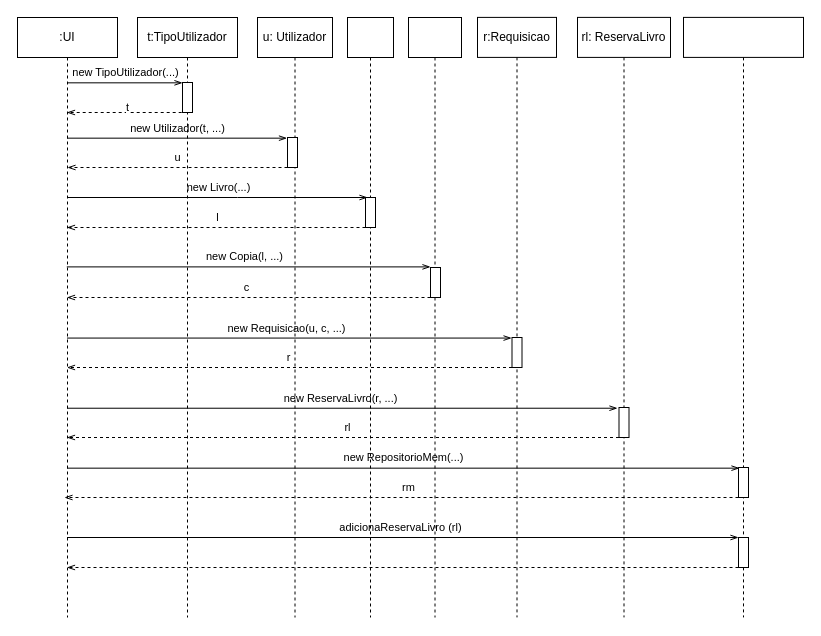
This 821x636 diagram has some shape labels left out. Each missing label, with the box of its shape:
c:Copia: (408, 16, 462, 618)
l:Livro: (346, 16, 394, 618)
rm:RepositorioMem: (682, 16, 804, 617)
